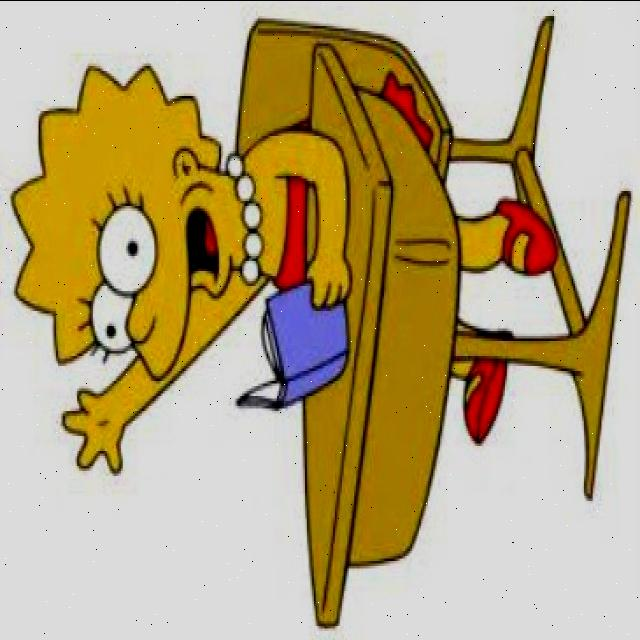Lisa Simpson: (8, 62, 266, 382)
